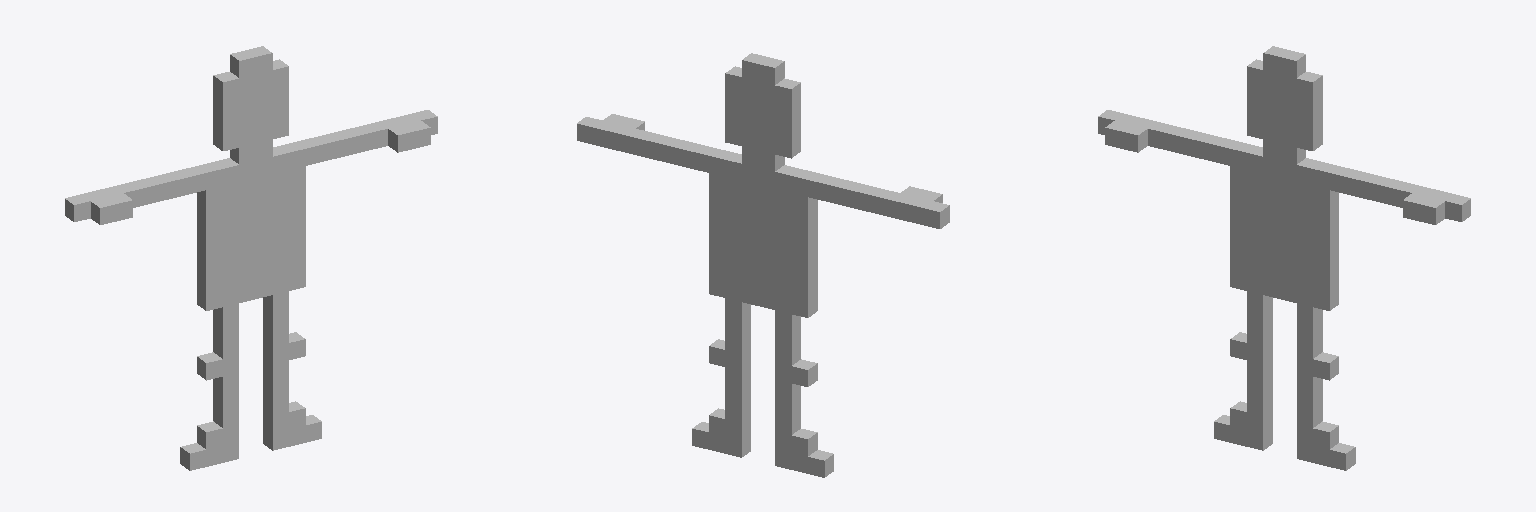
The model's file is basic.obj.
3 views of the same model, side by side, from view 1: azimuth 30°, elevation 25°; view 2: azimuth 150°, elevation 25°; view 3: azimuth 330°, elevation 25° (orthographic).
Parts seen in each view (by area): view 1: object 1; view 2: object 1; view 3: object 1.
Part boxes in pixels (left/top/right/bottom): object 1: left=65, top=46, right=437, bottom=470; object 1: left=577, top=53, right=949, bottom=477; object 1: left=1098, top=46, right=1470, bottom=470.
Size of the model in its own units: 2.2 by 2.3 by 0.2.